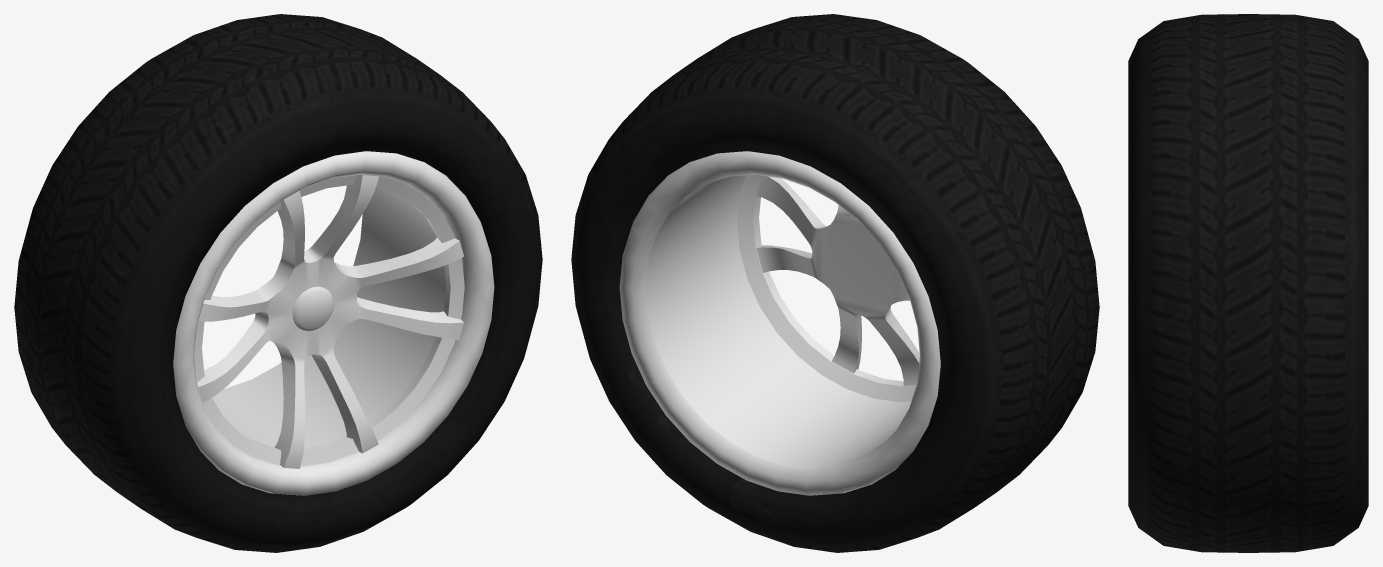
File: wheel_oem.glb
The picture shows the model from 3 angles, left to right: view 1: azimuth 30°, elevation 25°; view 2: azimuth 150°, elevation 25°; view 3: azimuth 270°, elevation 25°; orthographic projection. The views are drawn at different scales.
Visible parts, largest first — view 1: tire, rim; view 2: tire, rim; view 3: tire.
Part boxes in pixels (x1=…): tire: x1=14, y1=14, x2=542, y2=552; rim: x1=173, y1=151, x2=494, y2=495; tire: x1=571, y1=14, x2=1099, y2=552; rim: x1=619, y1=151, x2=940, y2=495; tire: x1=1128, y1=14, x2=1368, y2=552.
Bounding box in the file's own units: 32.63 × 32.63 × 14.53.
Materials: 2 (1 with a texture image).
